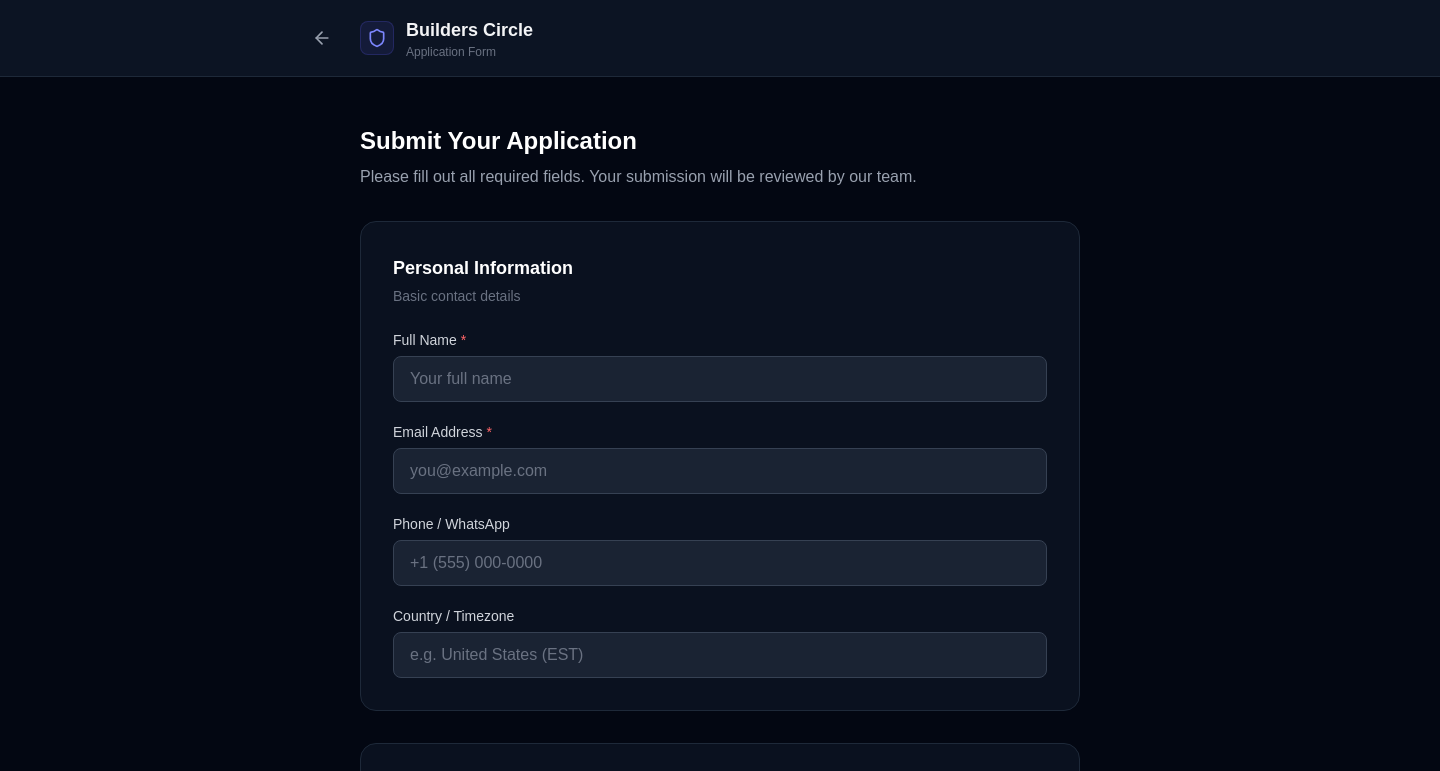
Scenario: TriageApply Successful Submission [Group 5] › handles general submission errors
Step 1. Type "Carol White" into the field with placeholder "Your full name" → (720, 379), box [393, 356, 1047, 402]
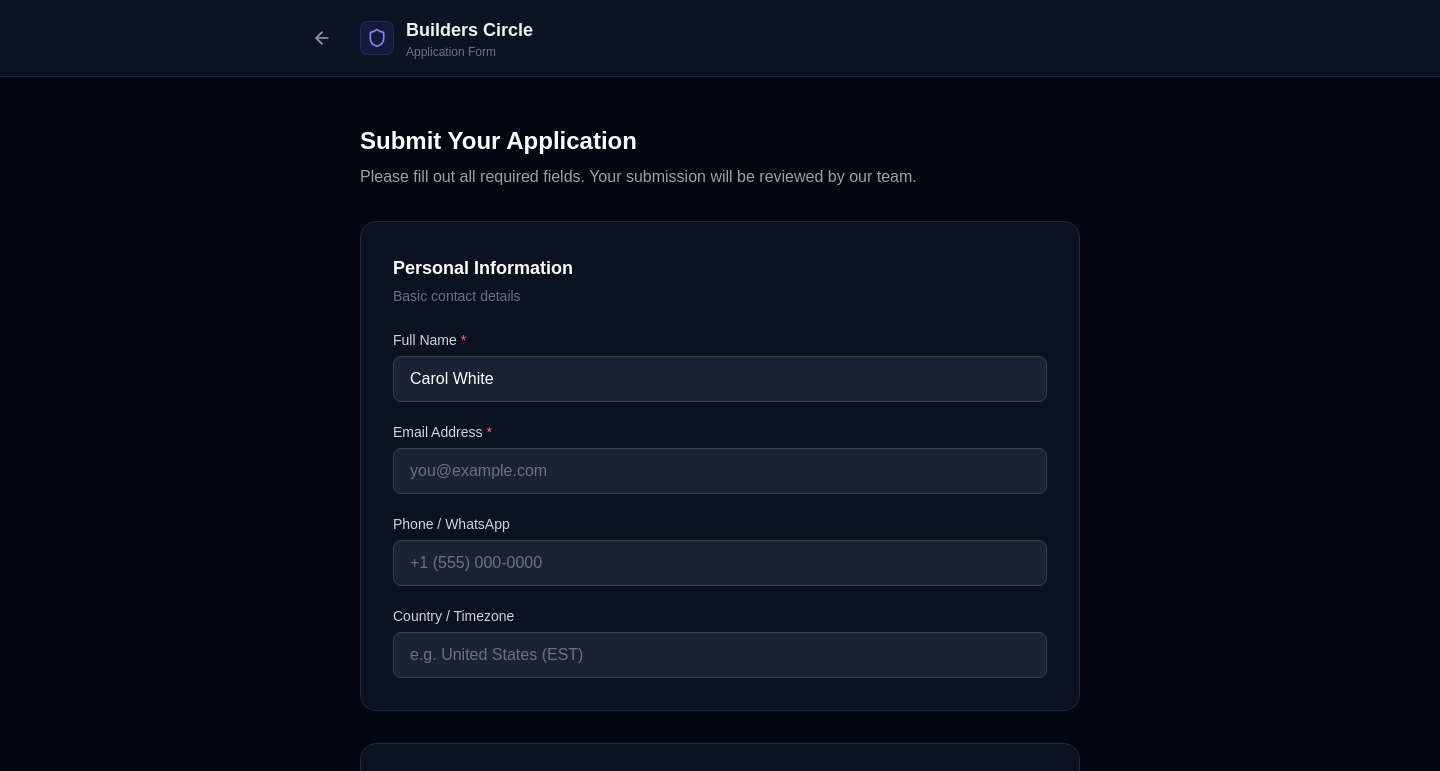
Step 2. Type "carol@example.com" into the field with placeholder "you@example.com" → (720, 471), box [393, 448, 1047, 494]
(page scrolled)
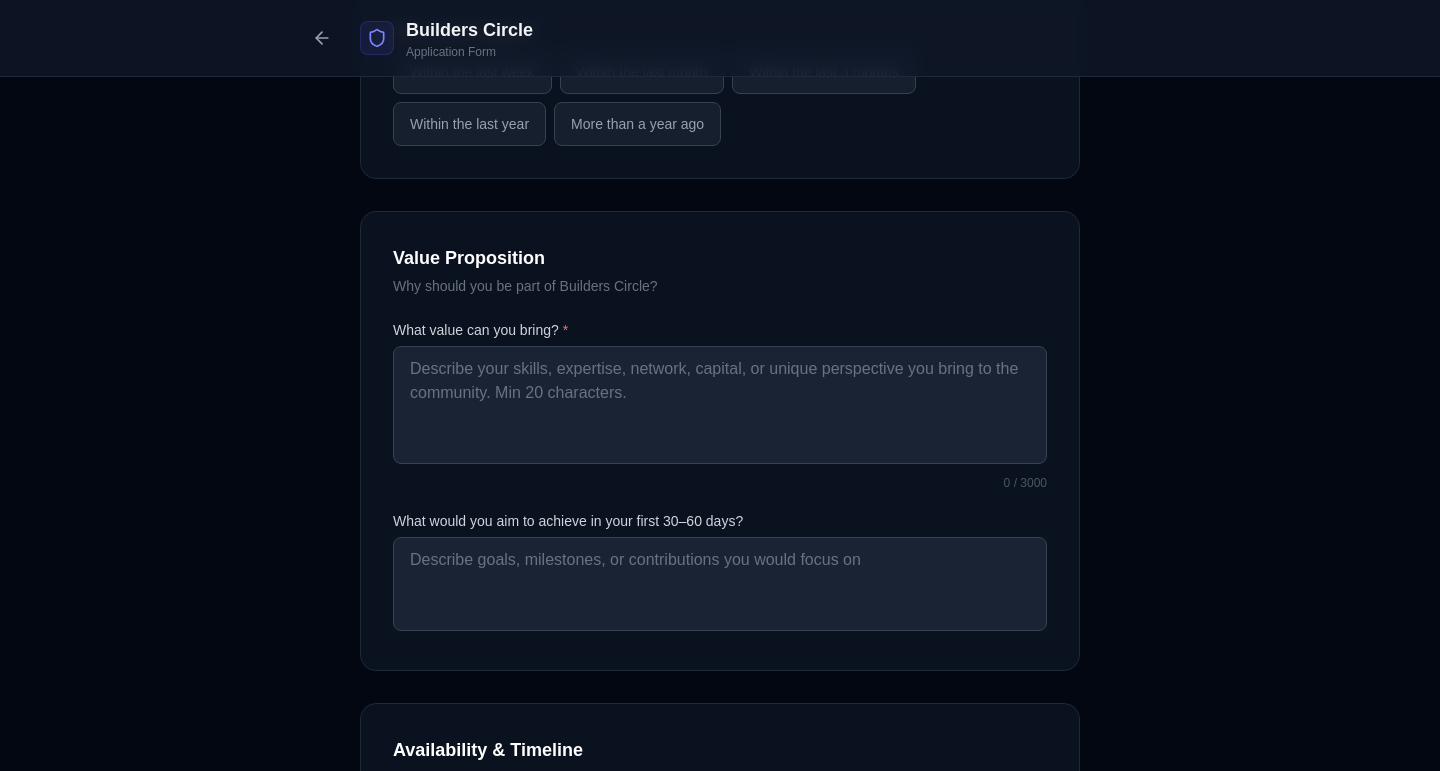
Step 3. Replace the text in the text box with placeholder "Describe your skills" with "DevOps engineer with expertise in Kubernetes, CI/CD pipelines, and infrastructure automation." → (720, 405), box [393, 346, 1047, 464]
(page scrolled)
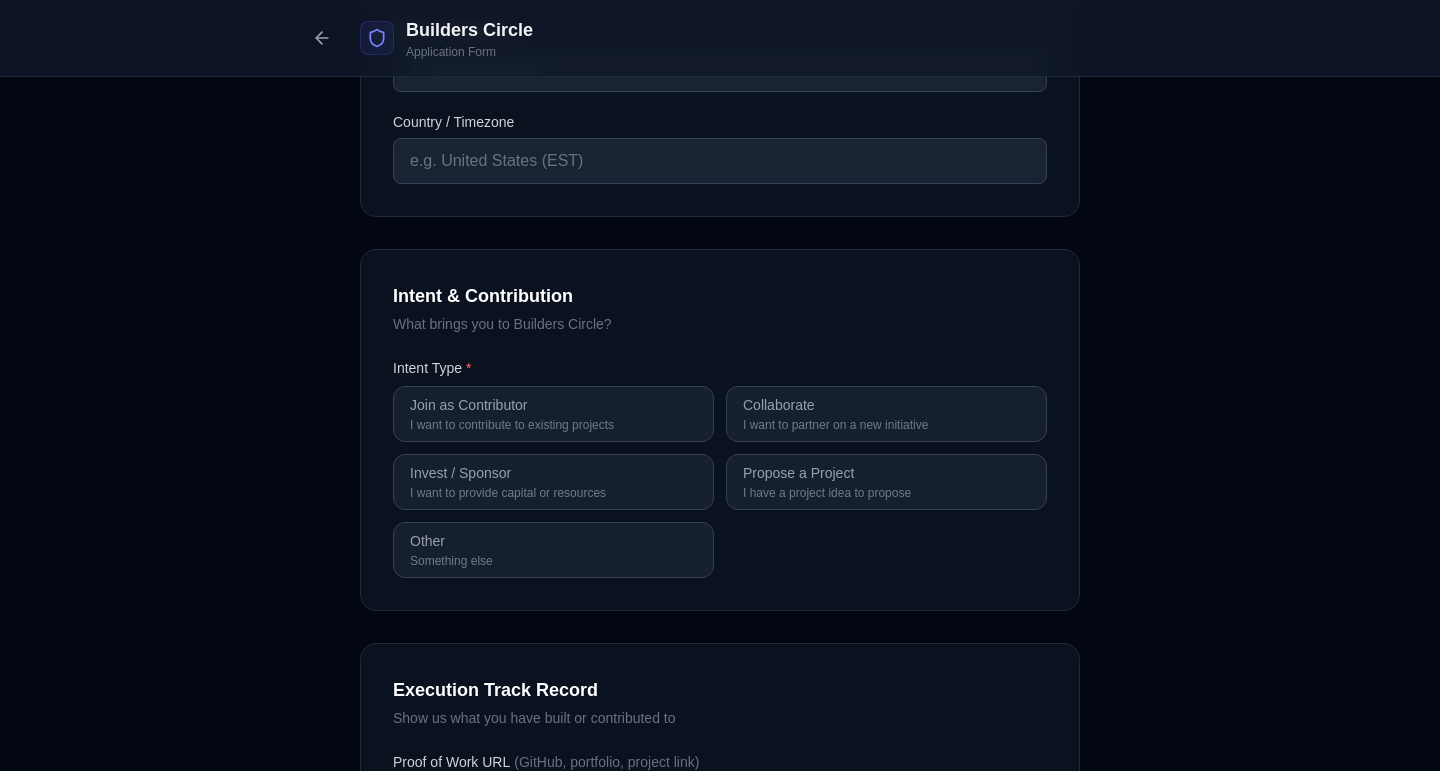
Step 4. Click the text "Join as Contributor" → (469, 405), box [410, 397, 528, 413]
(page scrolled)
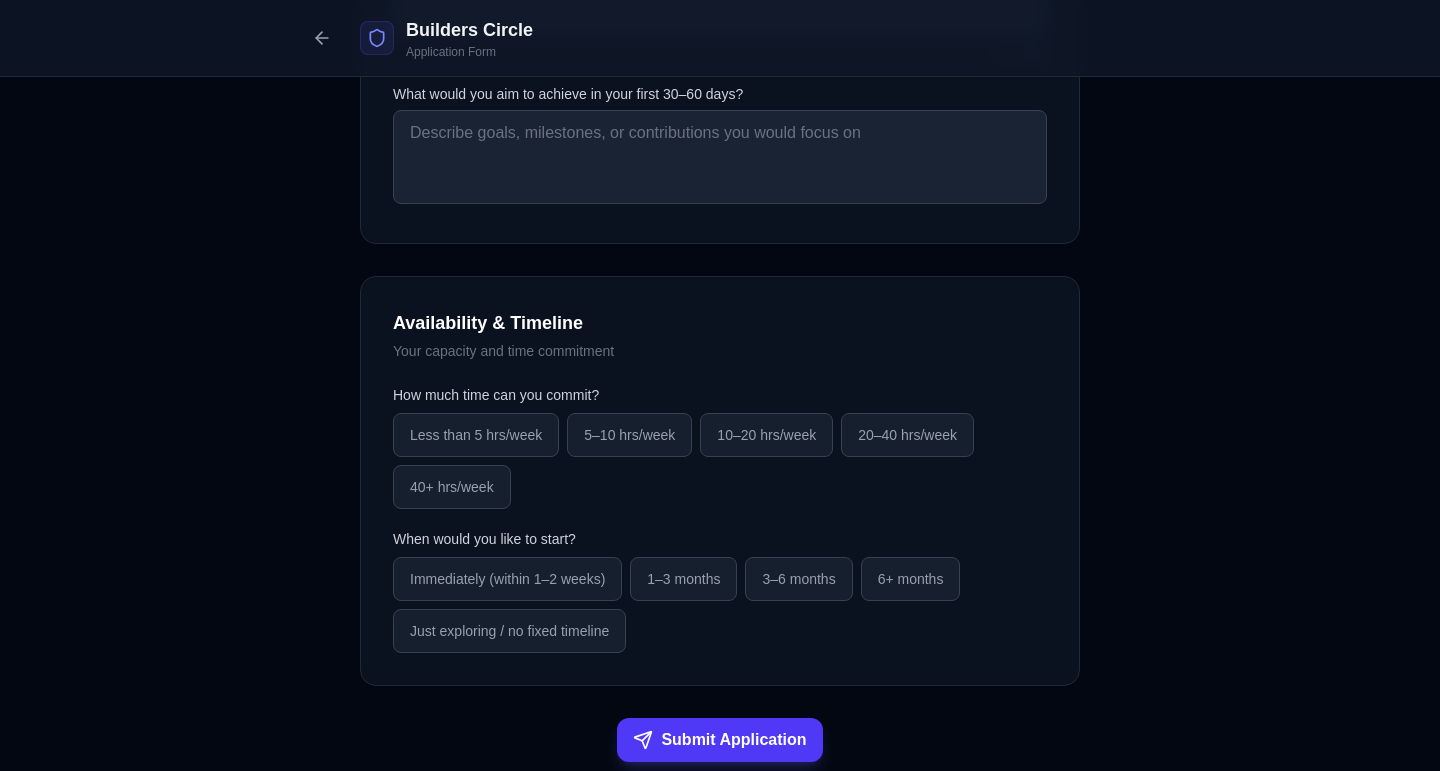
Step 5. Click the button "Submit Application" → (720, 740), box [617, 718, 823, 762]
(page scrolled)
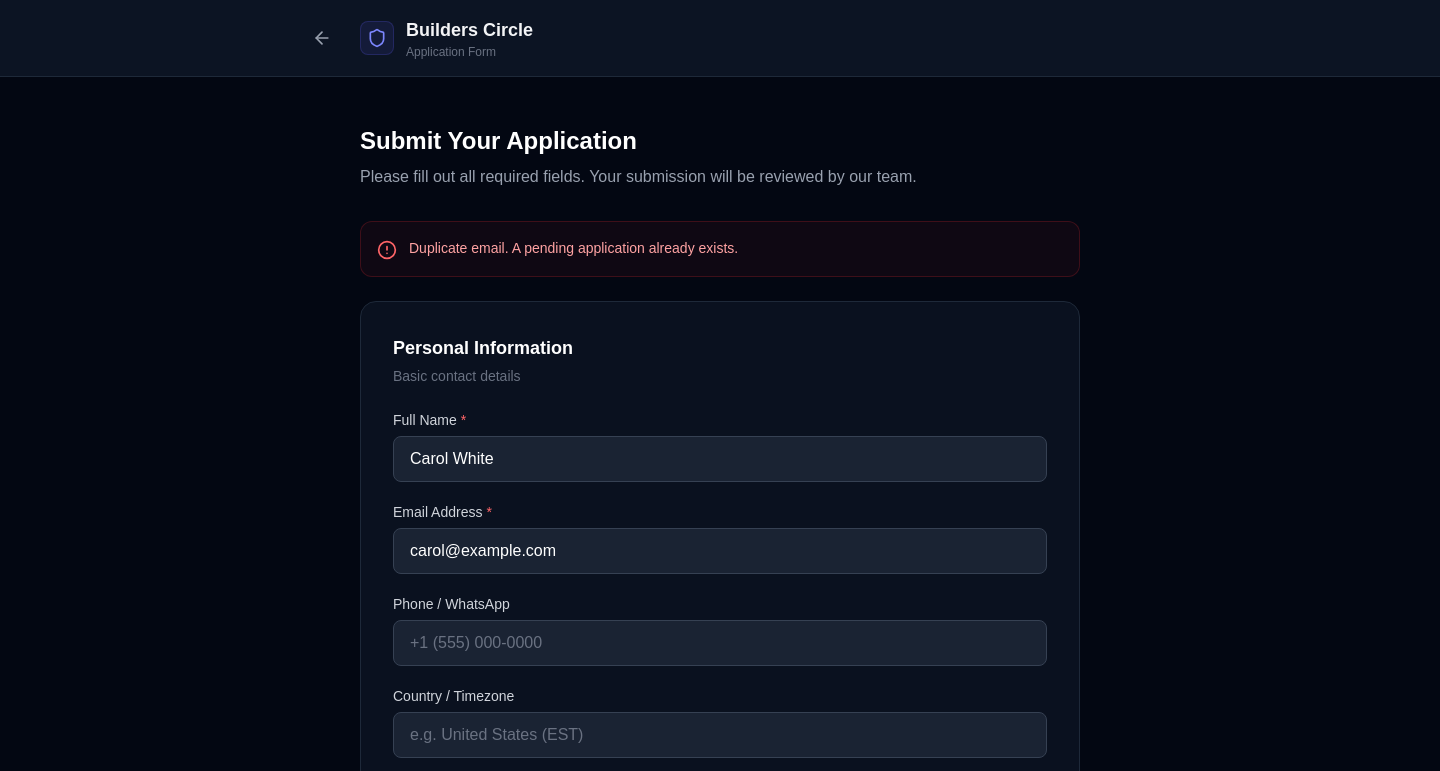
Now the text "Duplicate email. A pending application already exists." is shown, box [409, 238, 738, 258]
